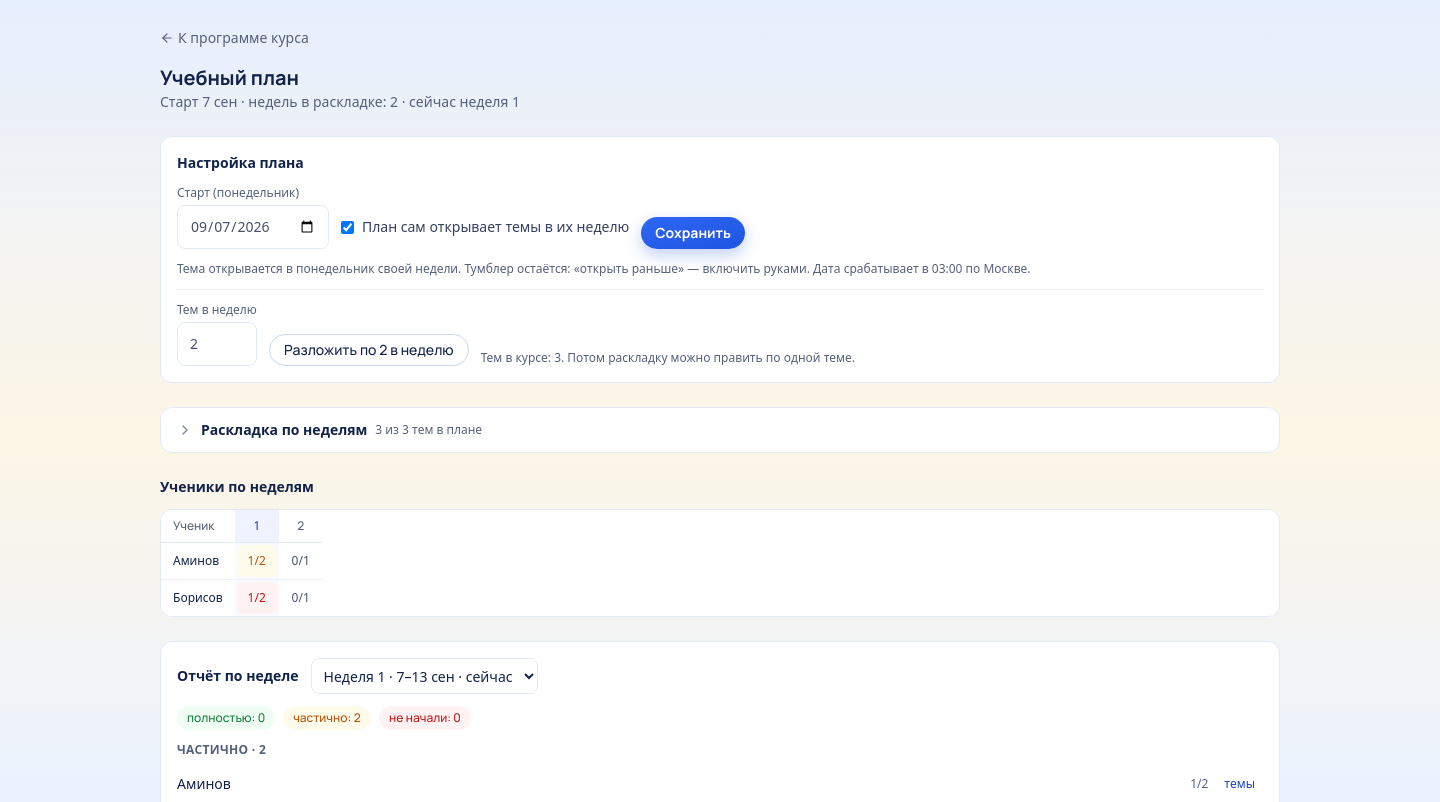
StudyPlanPage › отчёт по неделе: полностью / частично / не начали — поимённо, имена ведут на карточку
The image size is (1440, 802).
Step 1. Select "Неделя 2 · 14–20 сен" in the dropdown with test id "week-report-select" → (424, 676), box [311,658,538,694]
(page scrolled)
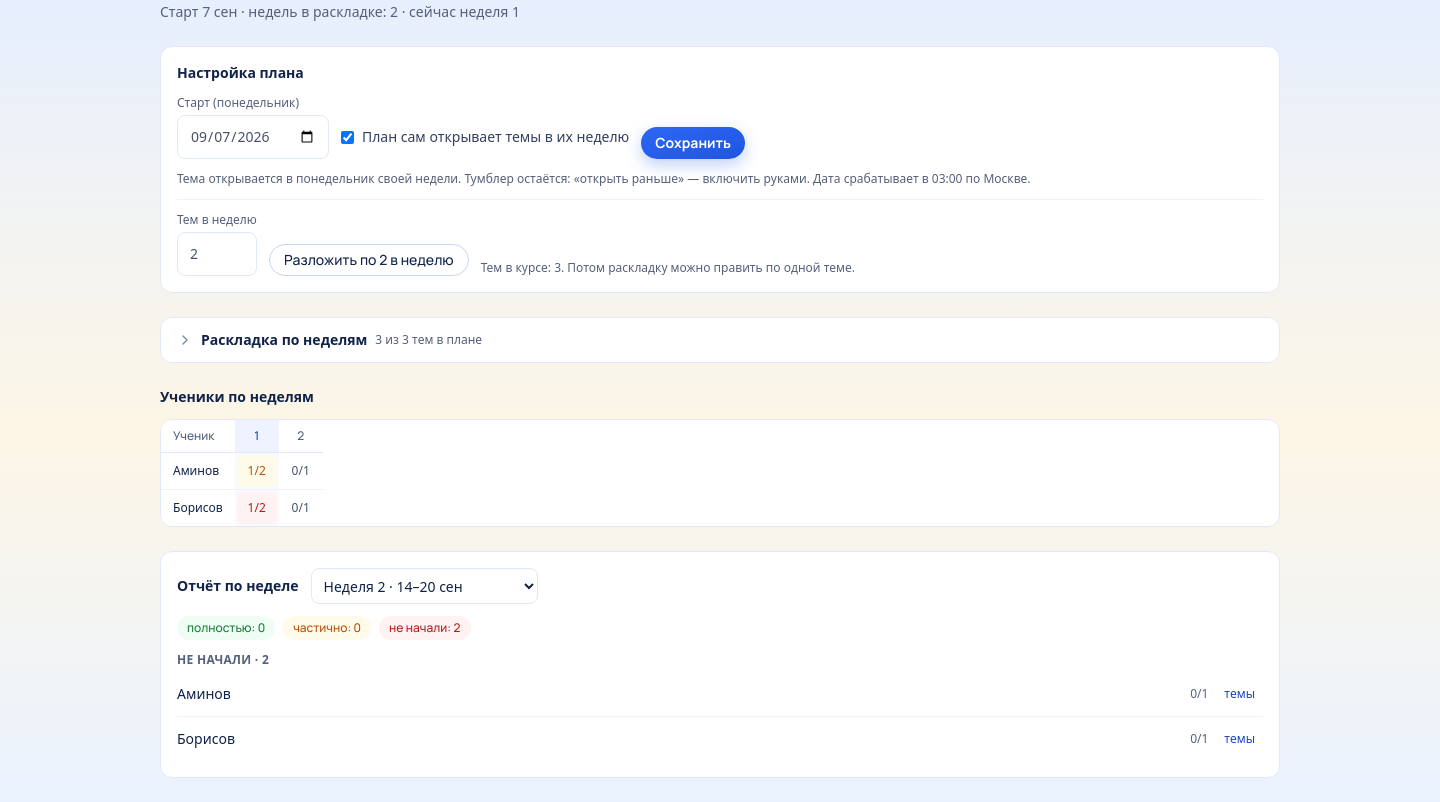
Now the element with test id "report-none" shows "Аминов", box [177,684,1182,704]
Now the element with test id "report-none" shows "Борисов", box [177,729,1182,749]
Now the element with test id "week-report" shows "не начали: 2", box [160,551,1280,778]
